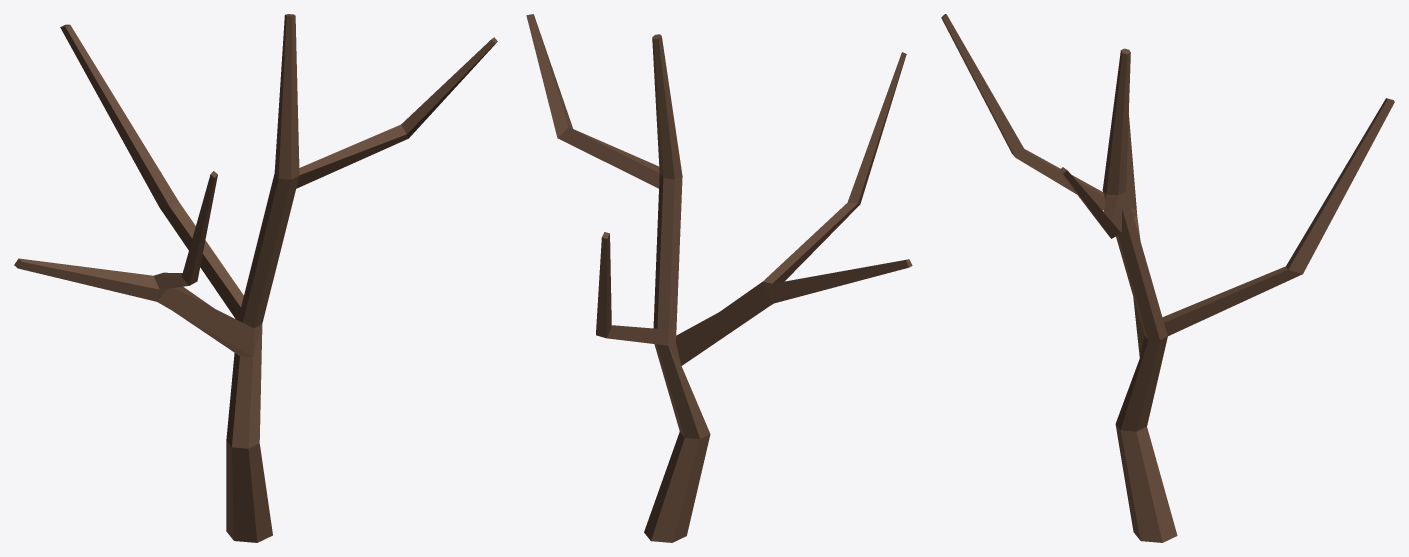
File: baretree1.fbx
3 views of the same model, side by side, from view 1: azimuth 30°, elevation 25°; view 2: azimuth 150°, elevation 25°; view 3: azimuth 270°, elevation 25° (orthographic). The views are drawn at different scales.
Visible parts, largest first — view 1: baretree1; view 2: baretree1; view 3: baretree1.
Part boxes in pixels (box(x1,y1,x2,y2)): baretree1: box(14, 14, 497, 542); baretree1: box(526, 14, 912, 542); baretree1: box(941, 14, 1394, 542).
Size of the model in its own units: 320 by 356 by 296.
